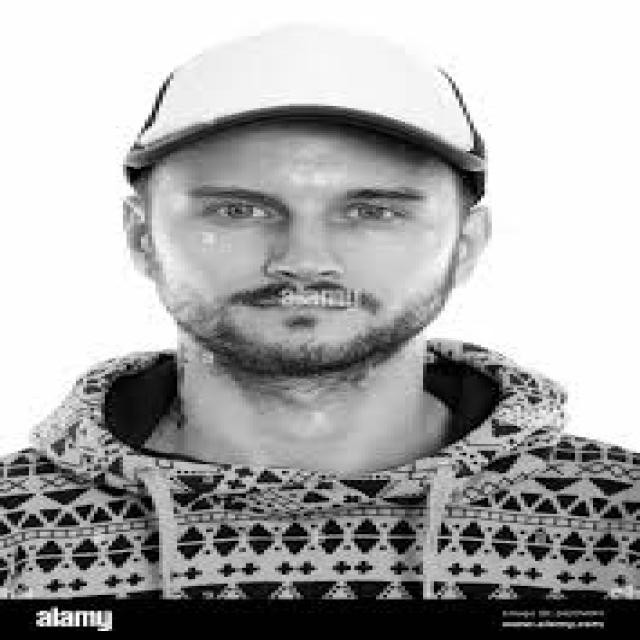cap: (112, 22, 503, 368)
